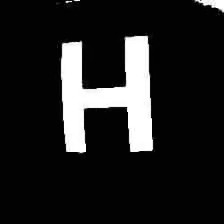LTR_H: (56, 24, 156, 156)
